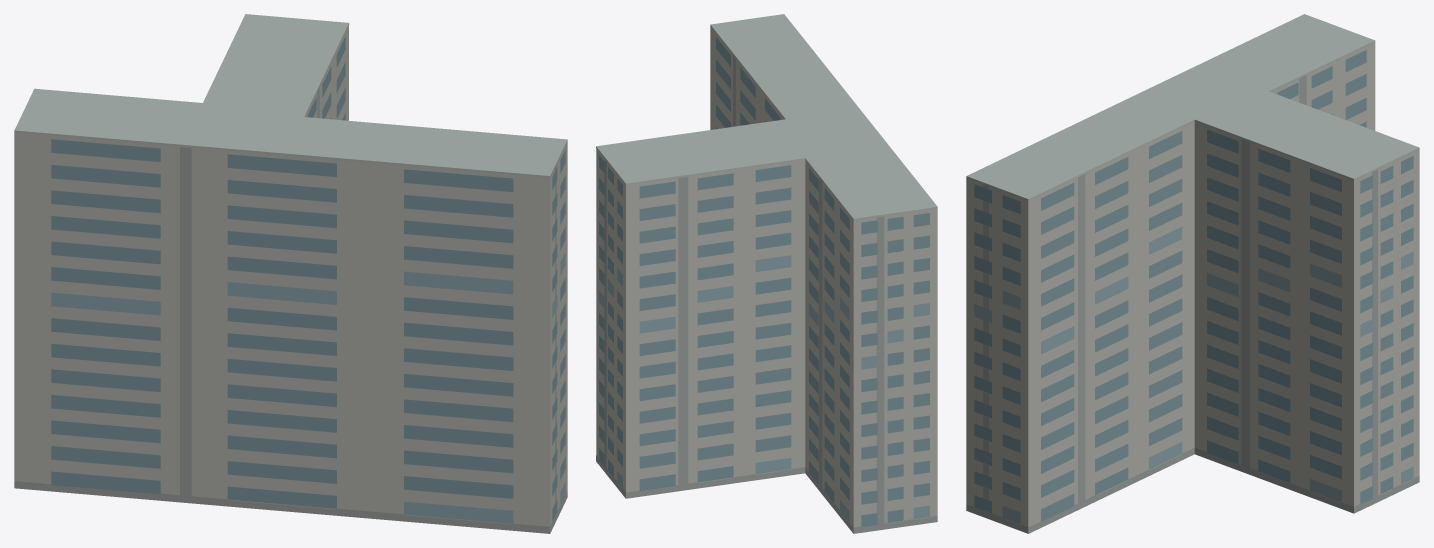
Rendered from residential-c6485ce6-2df1-4298-a2b4-fc8c8660533d.glb.
3 views of the same model, side by side, from view 1: azimuth 30°, elevation 25°; view 2: azimuth 150°, elevation 25°; view 3: azimuth 270°, elevation 25° (orthographic). The views are drawn at different scales.
Parts seen in each view (by area): view 1: residential-c6485ce6-2df1-4298-a2b4-fc8c8660533d.tmp; view 2: residential-c6485ce6-2df1-4298-a2b4-fc8c8660533d.tmp; view 3: residential-c6485ce6-2df1-4298-a2b4-fc8c8660533d.tmp.
Boxes of the visible parts, left/top/right/bottom form: residential-c6485ce6-2df1-4298-a2b4-fc8c8660533d.tmp: left=14, top=14, right=567, bottom=533; residential-c6485ce6-2df1-4298-a2b4-fc8c8660533d.tmp: left=596, top=14, right=937, bottom=533; residential-c6485ce6-2df1-4298-a2b4-fc8c8660533d.tmp: left=966, top=14, right=1419, bottom=533.
Bounding box in the file's own units: 47.47 × 40 × 49.09.
